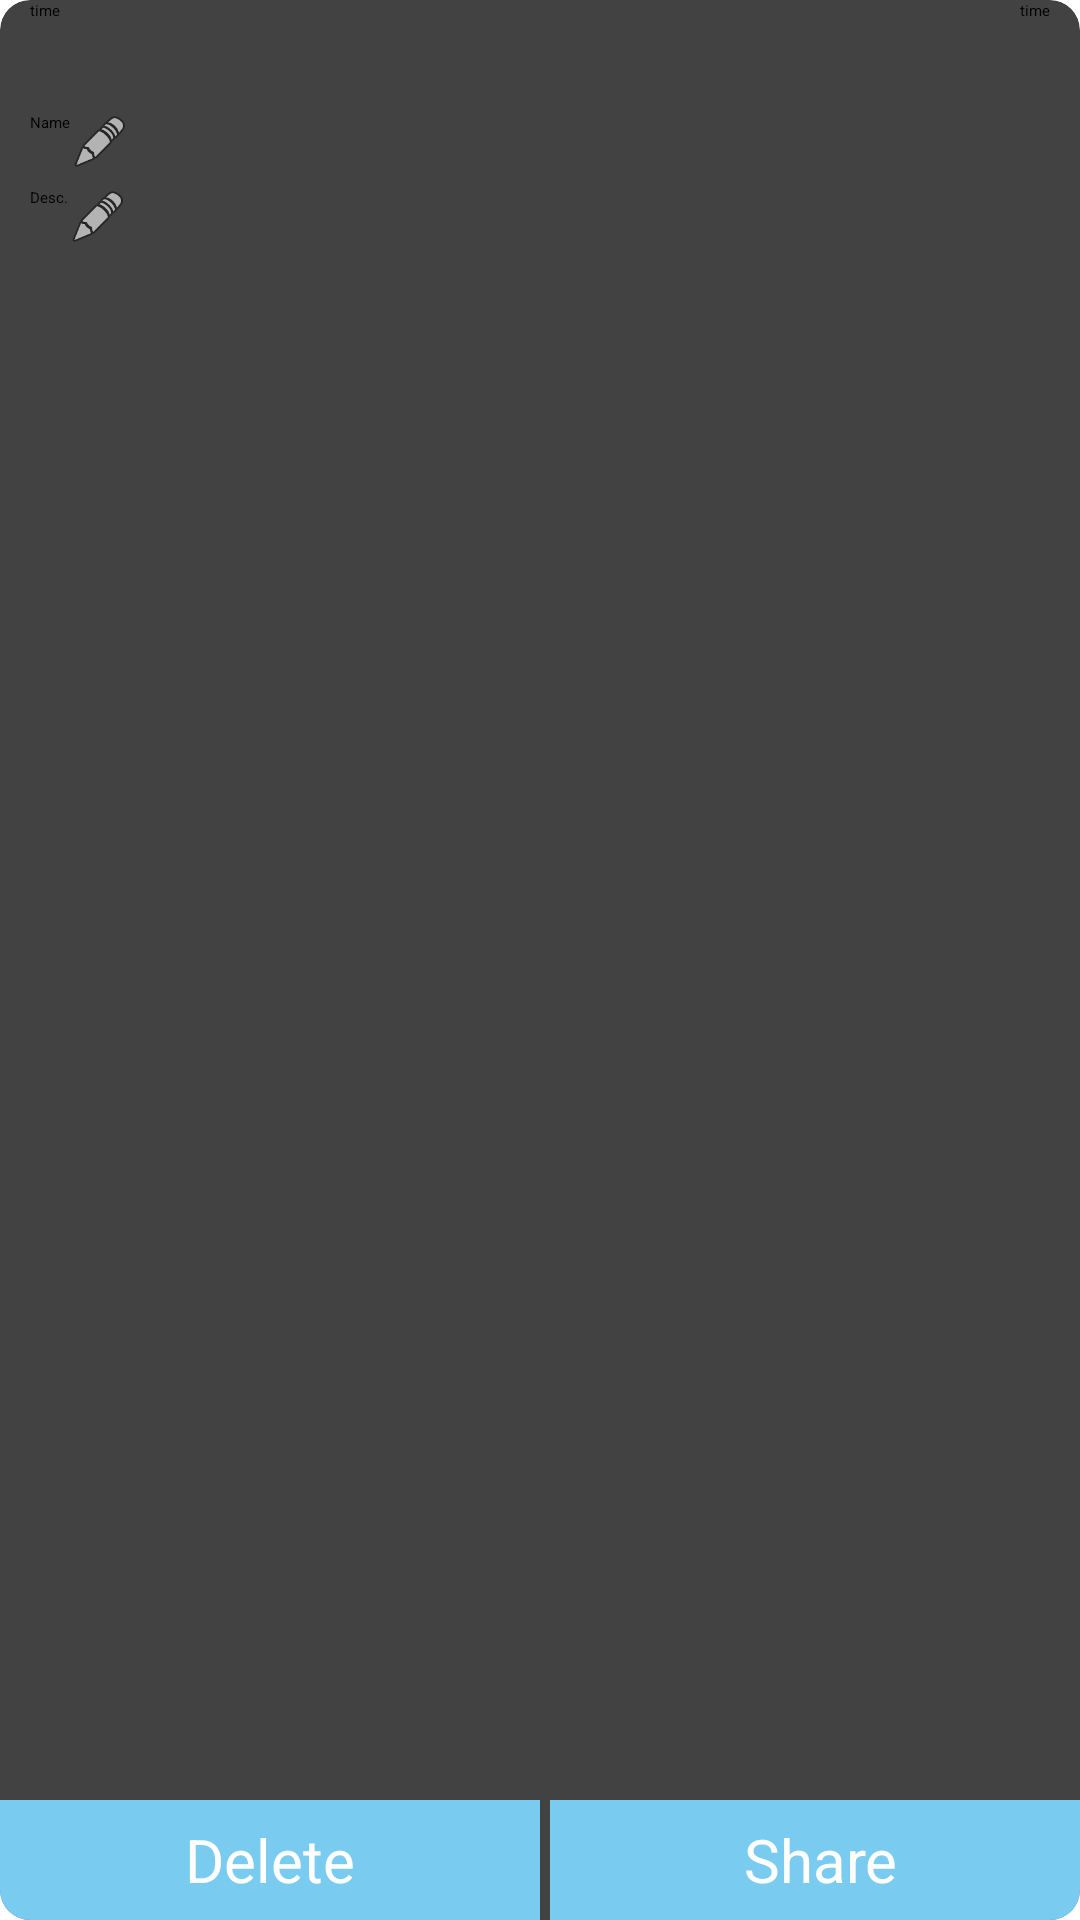

Icon bounding boxes for this 1080*1920 phone screenshot, format {"left": x1, "top": y1, "right": x2, "bottom": y2}:
edit: {"left": 75, "top": 117, "right": 125, "bottom": 166}, {"left": 73, "top": 192, "right": 123, "bottom": 241}
